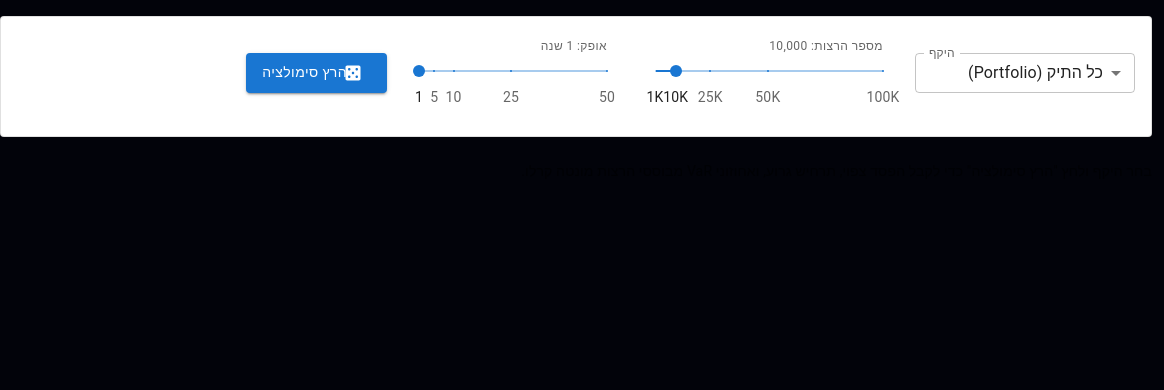
Scenario: Simulation › labels a 1-year result as annual
The image size is (1164, 390).
Click the button "הרץ סימולציה": (317, 73) [246,53,387,93]
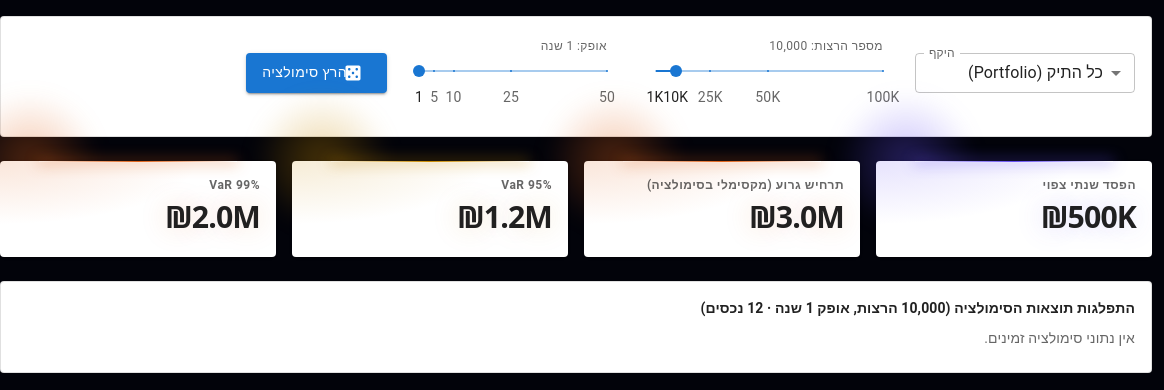
Expected: the text "הפסד שנתי צפוי" is shown, [1041,177,1136,193]
Expected: the text "VaR 95%" is shown, [501,178,552,192]
